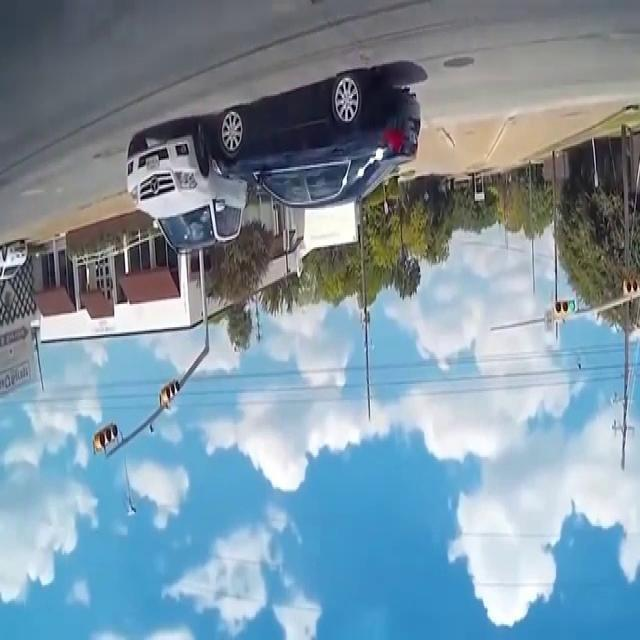moderate: (122, 51, 426, 272)
